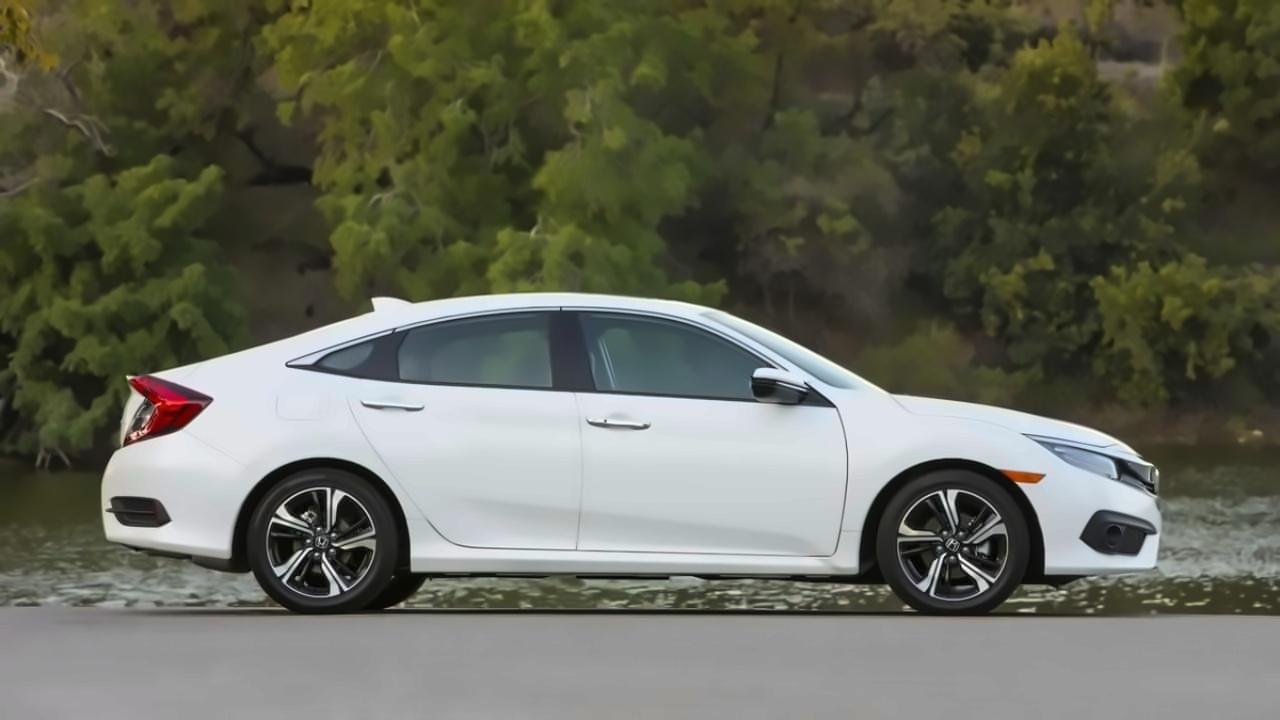Car hood: (878, 374, 1146, 442)
Driver-s door - -F-R-: (575, 286, 850, 558)
Fender - -F-R-: (832, 389, 1065, 592)
Fender - -R-R-: (215, 360, 444, 600)
Front bumper: (1028, 468, 1180, 598)
Headlight - -R-: (1016, 422, 1161, 500)
Passenger-s door - -R-R-: (364, 292, 579, 558)
Rear bumper: (70, 452, 252, 593)
Rear light - -R-: (88, 340, 232, 455)
Side bumper - -R-: (390, 524, 880, 592)
Side mirror - -R-: (738, 344, 815, 413)
